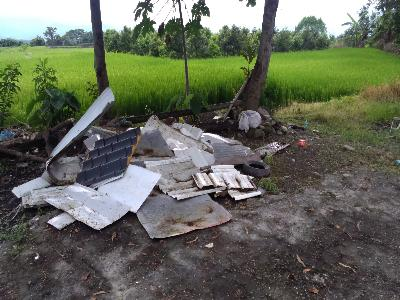tire: (242, 159, 270, 178)
